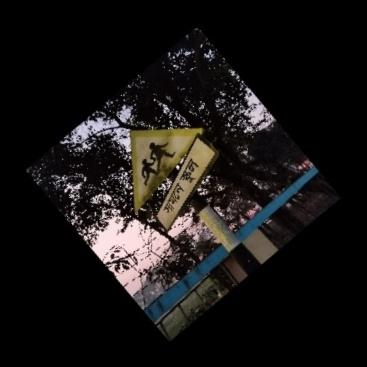School-in-front: (129, 119, 220, 233)
